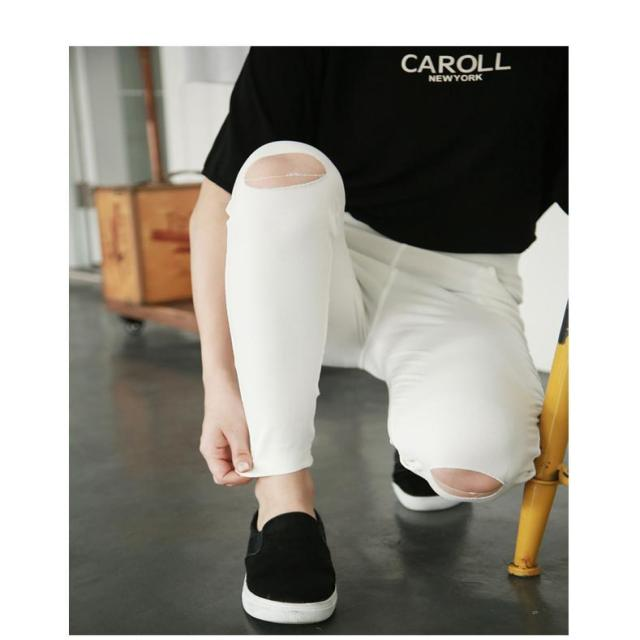short sleeve top: (203, 49, 567, 254)
trousers: (337, 205, 532, 478), (235, 165, 334, 474)
